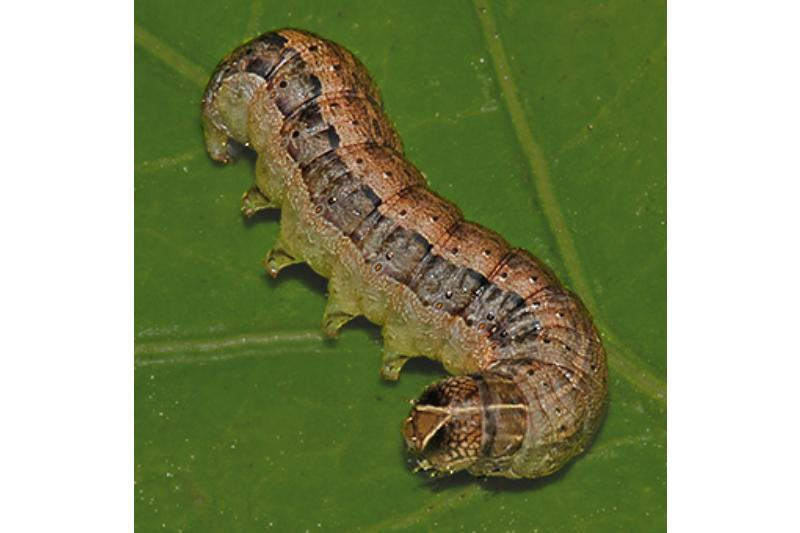fall-armyworm: (201, 28, 608, 485)
